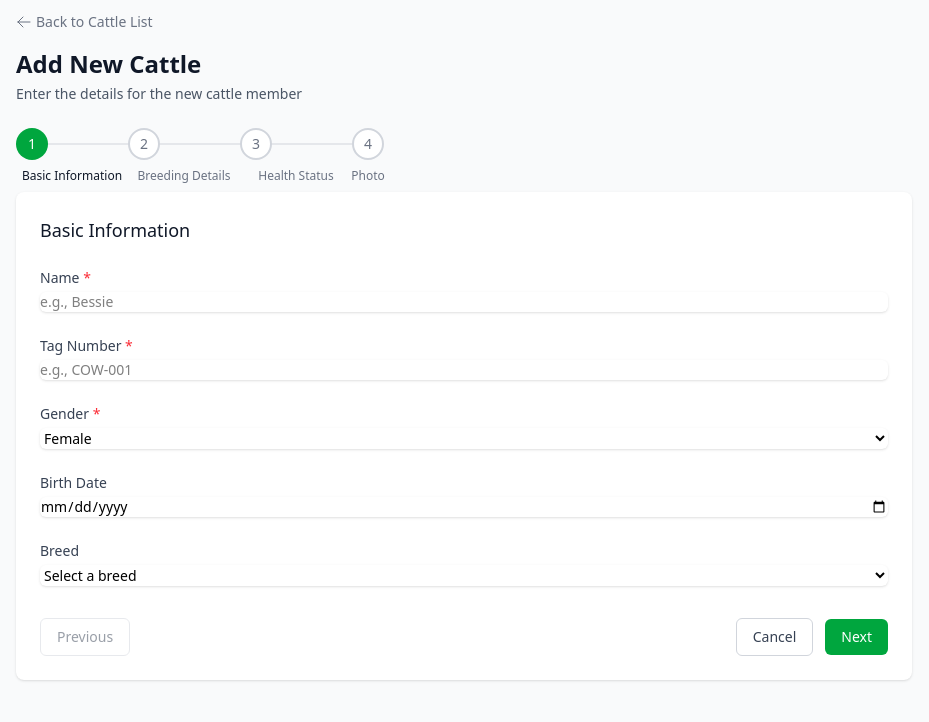
AddCattlePage › should check for duplicate tag numbers
Step 1. Type "COW-001" into the field labelled "Tag Number *" → (464, 370), box [40, 360, 888, 380]
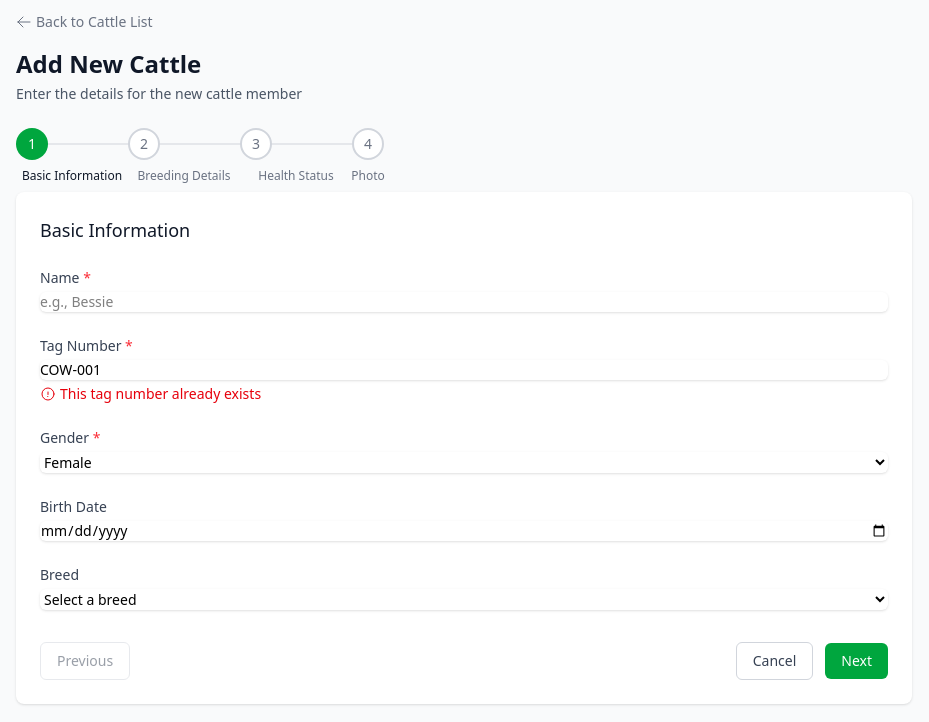
Result: the text "This tag number already exists" is shown at [40, 384, 261, 403]
